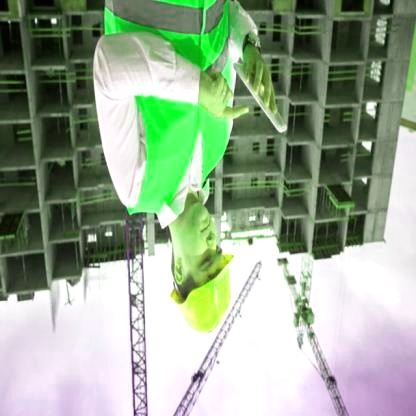vest: (92, 2, 243, 221)
